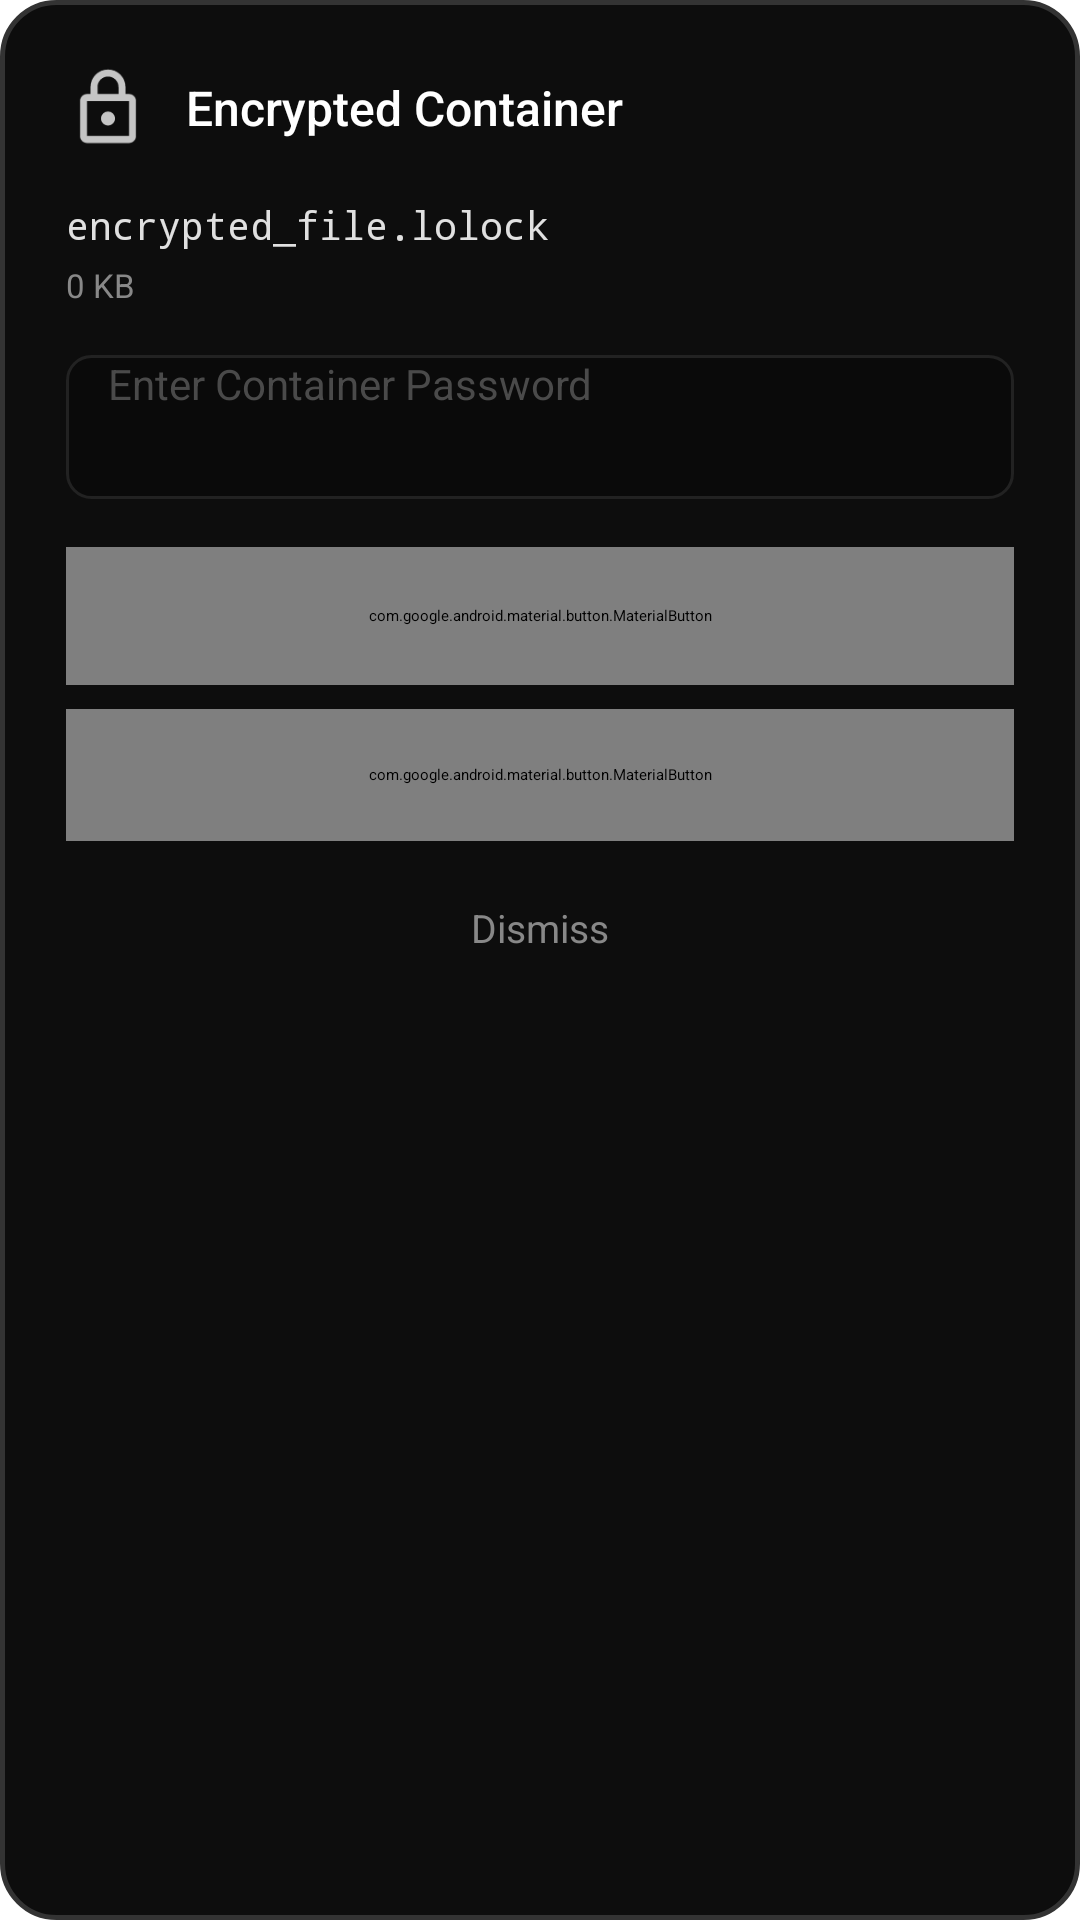

Screen size 1080*1920. Icon name, then its box in pixels as (x1, y1, x2, y2):
lock silver: (80, 69, 136, 144)
